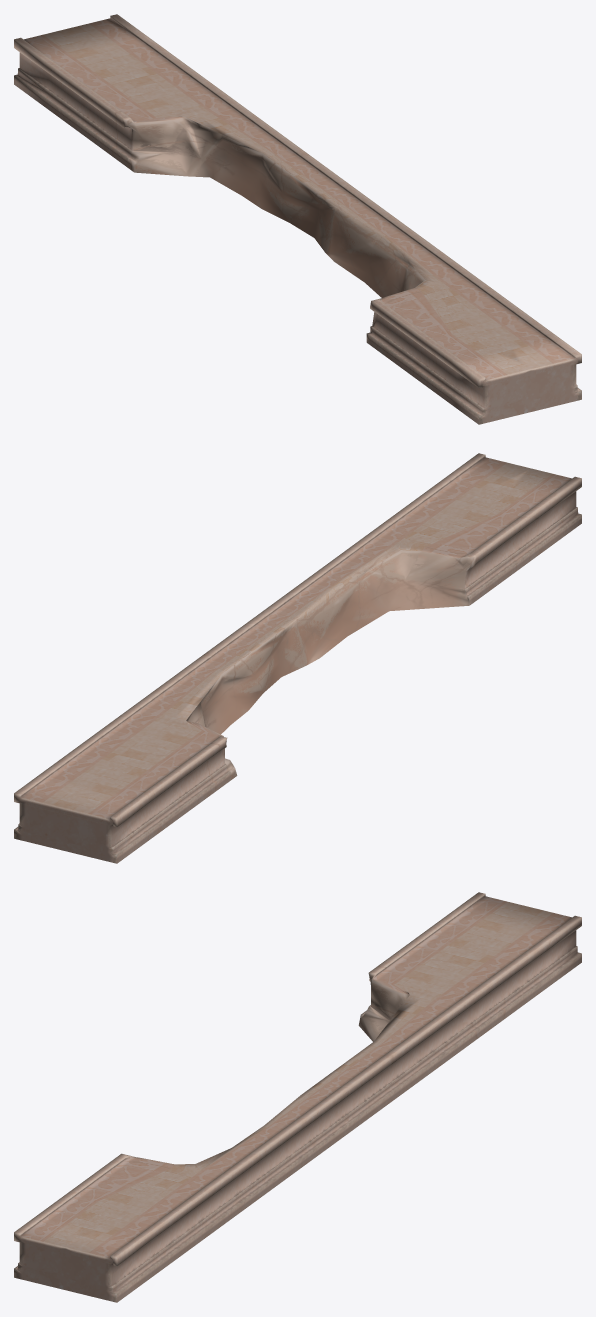
Rendered from 左侧边缺口两格.fbx.
The picture shows the model from 3 angles, top to bottom: view 1: azimuth 30°, elevation 25°; view 2: azimuth 150°, elevation 25°; view 3: azimuth 330°, elevation 25°; orthographic projection.
Parts seen in each view (by area): view 1: 平面.024; view 2: 平面.024; view 3: 平面.024.
Part boxes in pixels (x1,y1,x2,y2): 平面.024: [14, 14, 581, 424]; 平面.024: [14, 453, 581, 863]; 平面.024: [14, 892, 581, 1302].
Size of the model in its own units: 310 by 130 by 2419.
